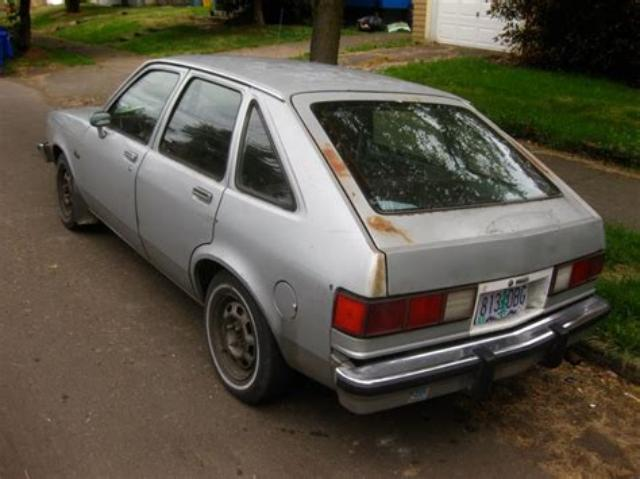chevette-1983: (38, 54, 609, 412)
